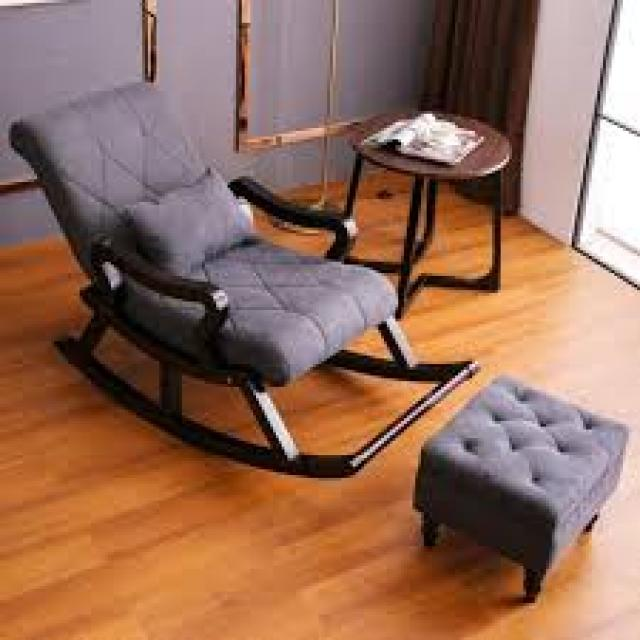chair: (8, 77, 494, 483)
